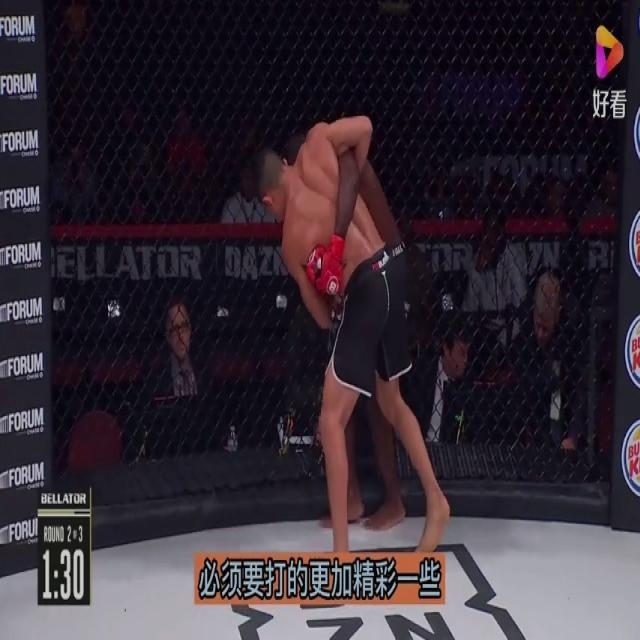fight: (253, 108, 451, 554)
